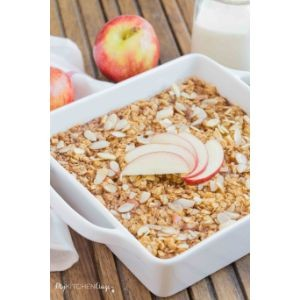oat_brain food: (99, 112, 227, 232)
